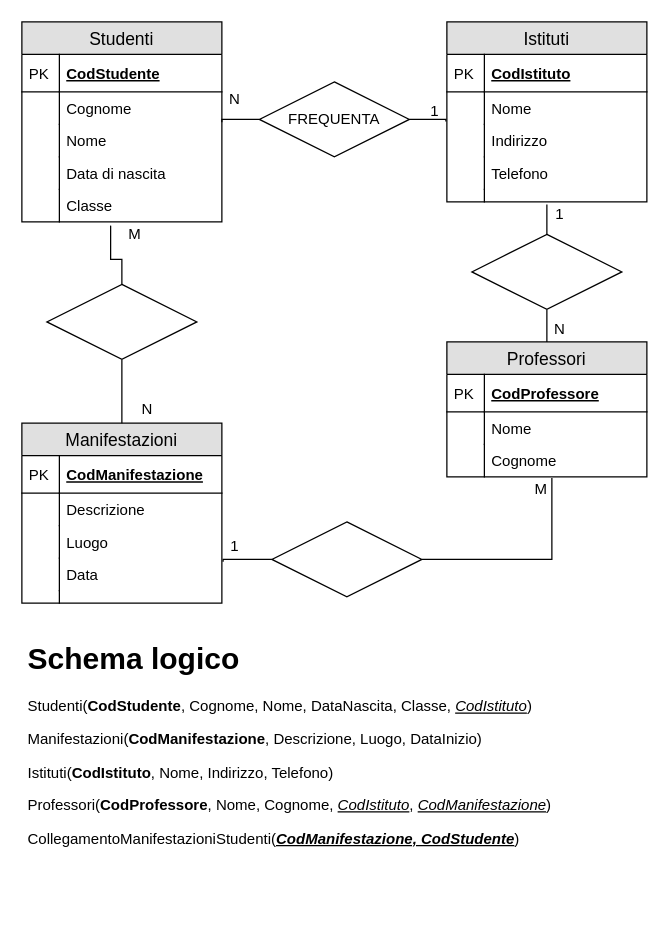
The diagram is 669 pixels wide and 944 high, and some of its shapes have lost their labels. Here are the shapes that lost their labels. From the top down, the centre of each, then its label:
the point at 546,271: LAVORA PRESSO
the point at 121,321: PARTECIPA
the point at 346,559: RESPOSABILE
